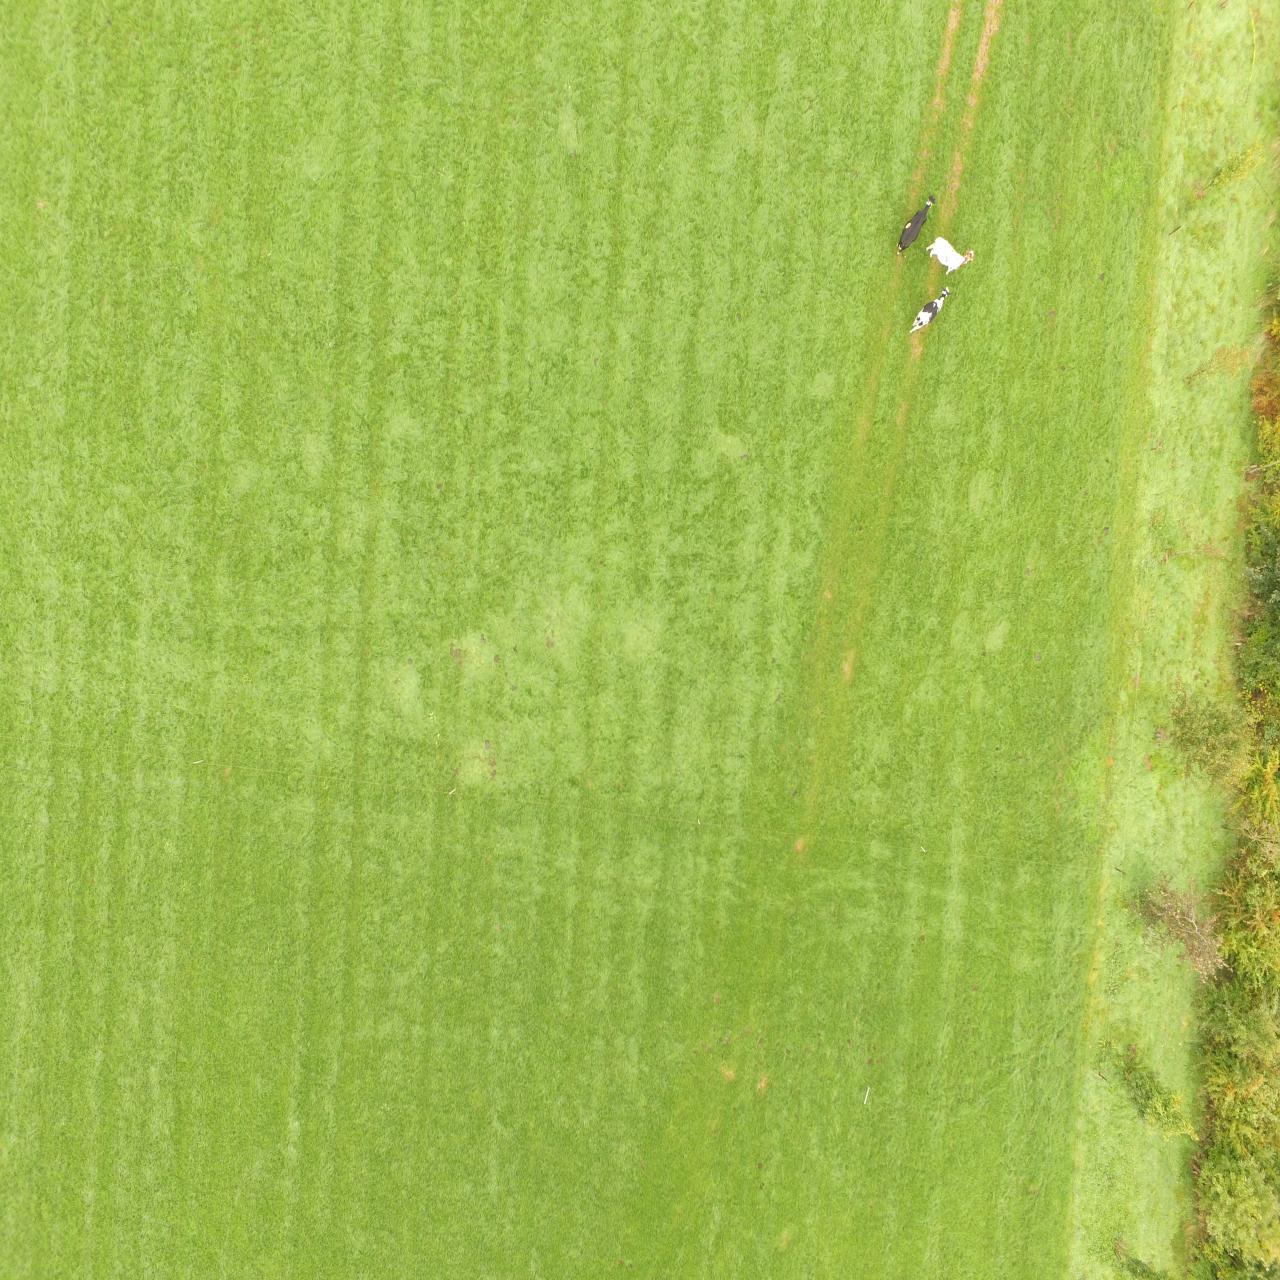cow: (896, 195, 935, 258), (905, 285, 952, 336), (925, 234, 974, 278)
